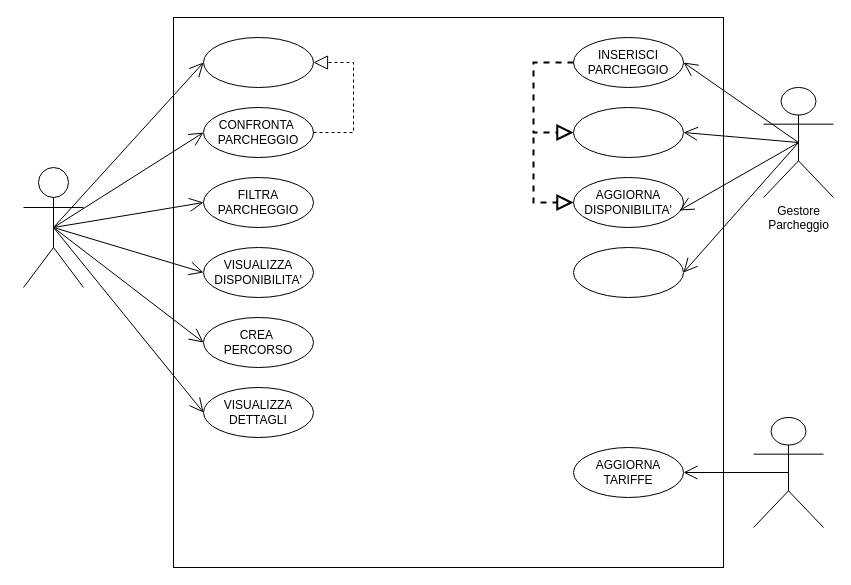
This 851x585 diagram has some shape labels left out. Here are the shapes that lost their labels. From the top down, the box of each, then its label:
(202, 36, 314, 88): CERCA PARCHEGGIO
(572, 106, 684, 158): AGGIORNA PREZZI
(22, 166, 84, 288): Automobilista
(572, 246, 684, 298): SEGNALA CHIUSURA
(752, 416, 824, 528): Ente comunale
